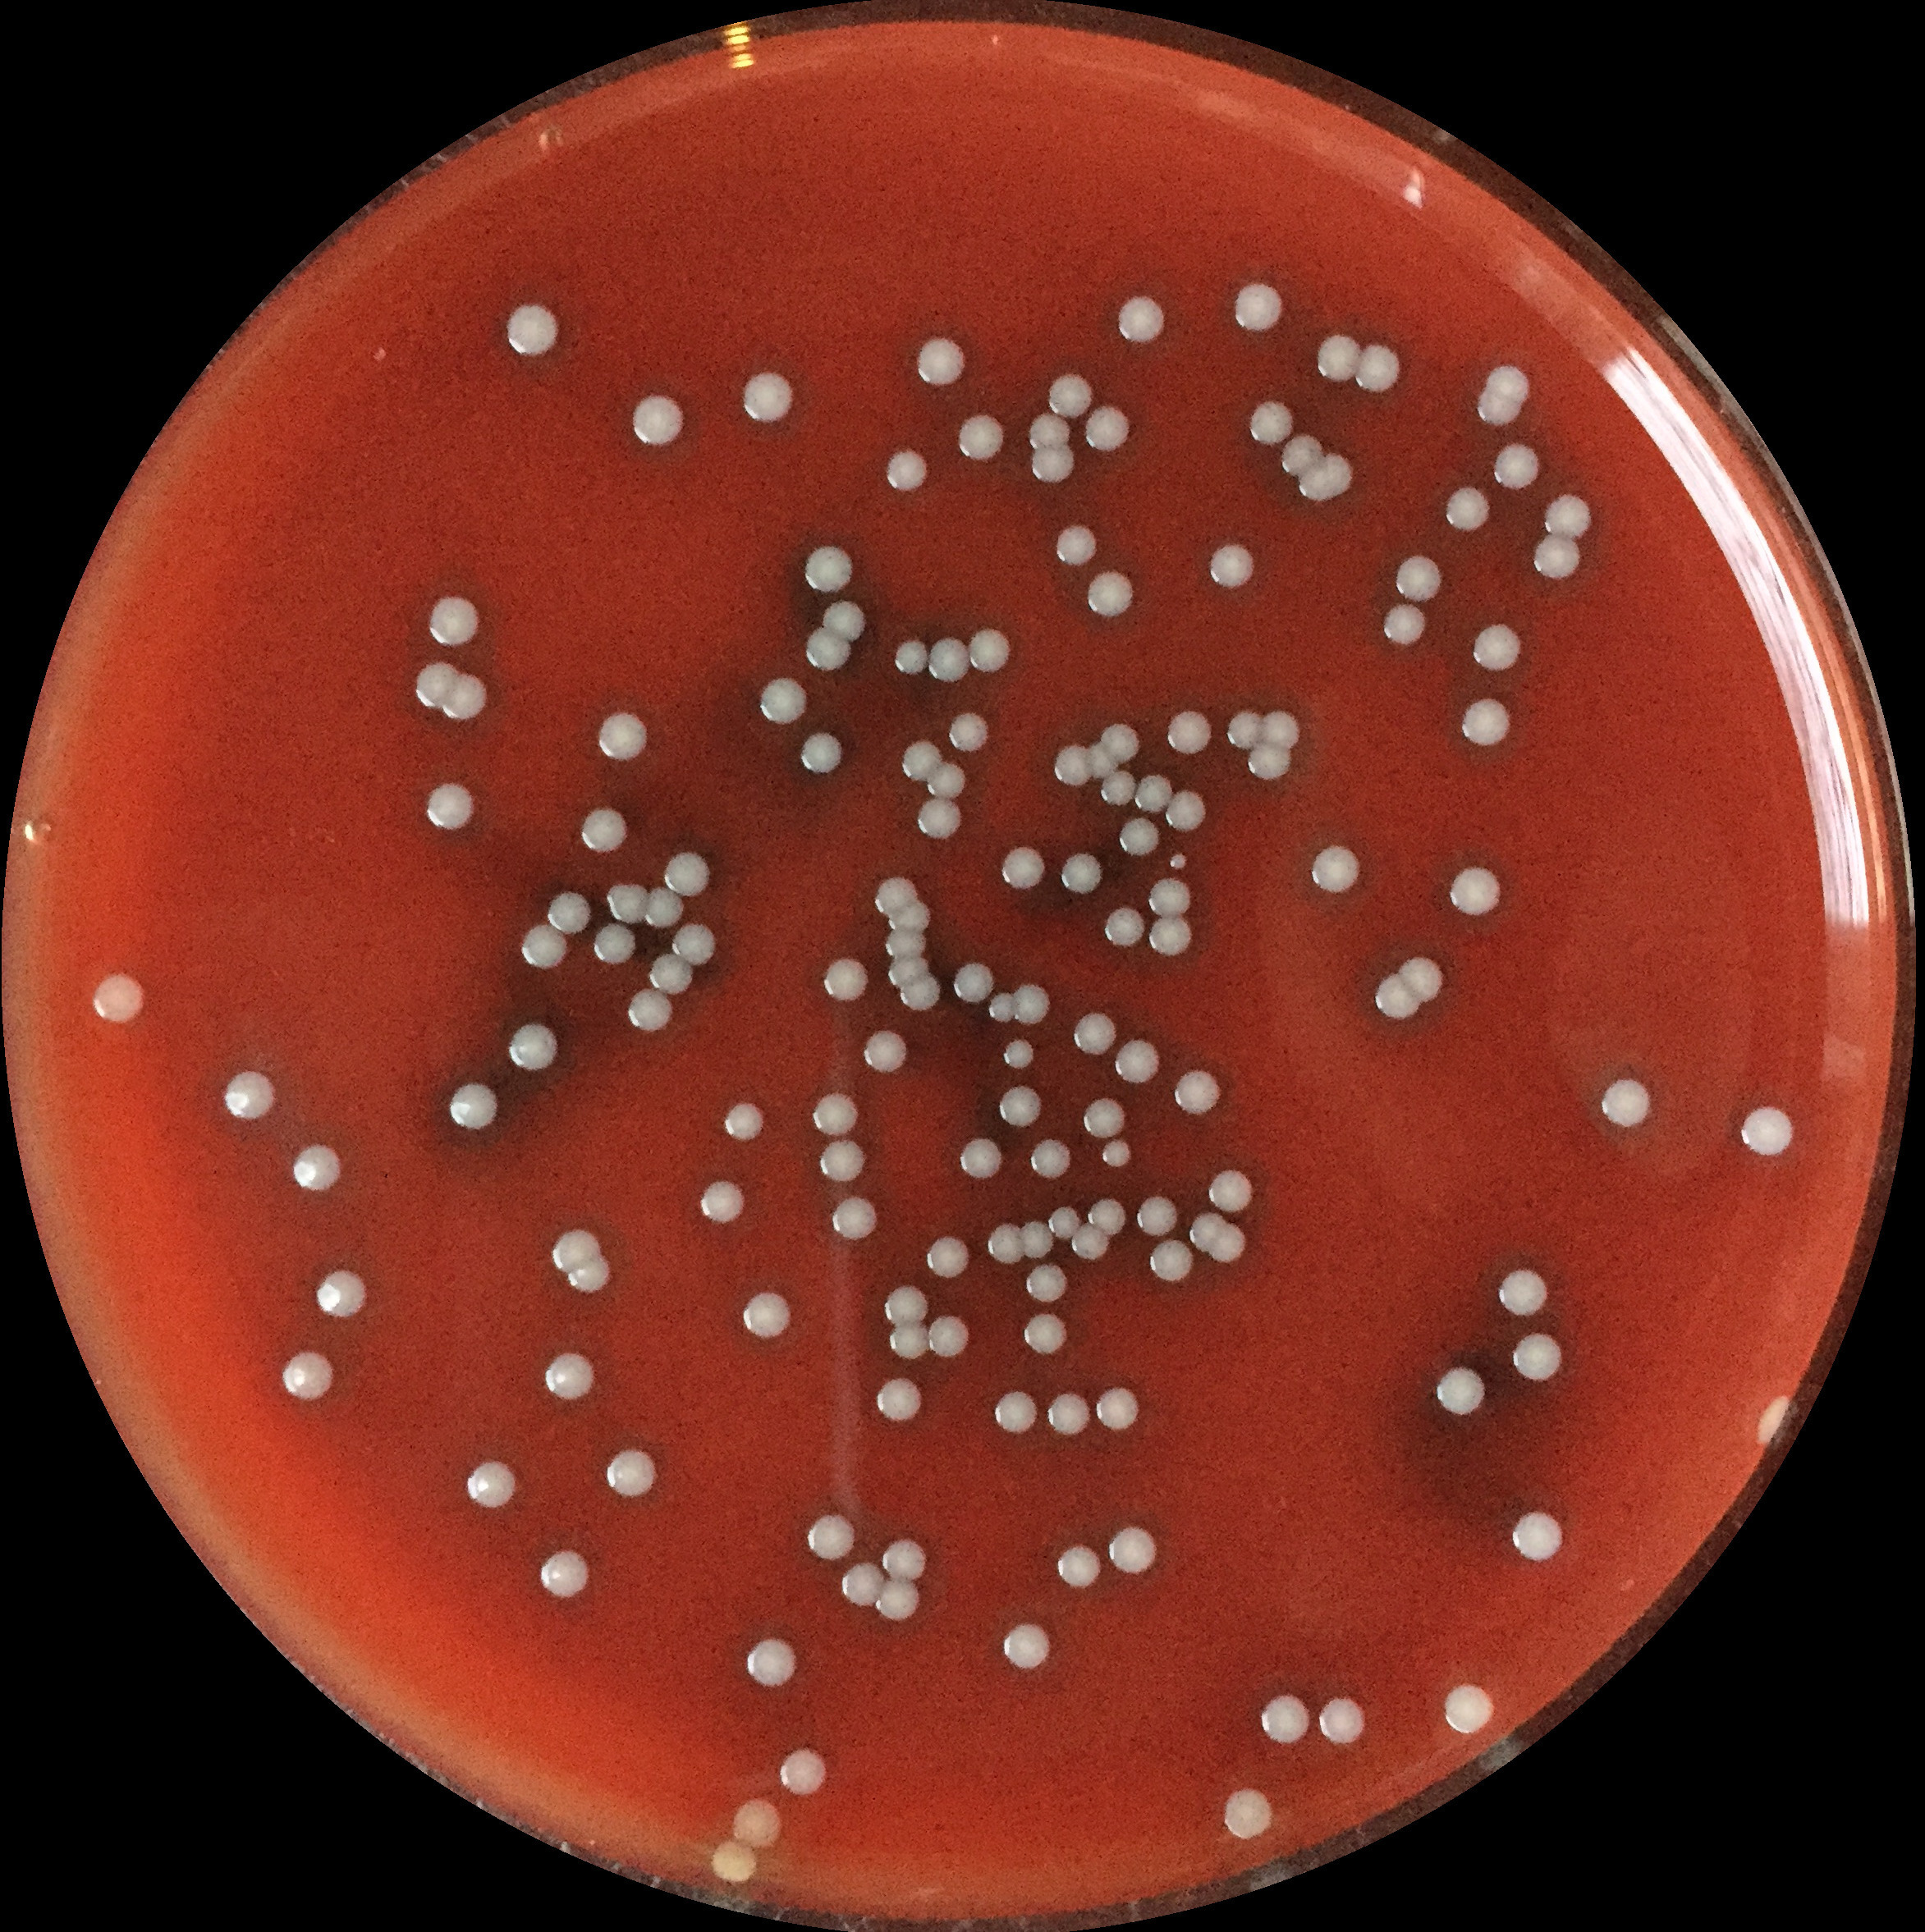sp21: (502, 296, 564, 361), (219, 1065, 282, 1126), (628, 390, 691, 450), (1081, 564, 1141, 626), (800, 539, 860, 601), (1442, 862, 1507, 918), (418, 777, 483, 834), (998, 1618, 1056, 1678), (742, 367, 802, 425), (1440, 1680, 1500, 1738), (1109, 293, 1171, 349), (1431, 1363, 1493, 1419), (594, 707, 656, 763), (804, 1507, 858, 1571), (1458, 693, 1516, 751), (911, 333, 971, 390), (277, 1349, 337, 1405), (1740, 1100, 1796, 1160), (1220, 1782, 1275, 1844), (732, 1793, 786, 1854), (538, 1347, 599, 1401), (462, 1460, 524, 1514), (532, 1544, 594, 1599), (310, 1266, 374, 1319), (1299, 446, 1357, 502), (740, 1289, 799, 1345), (504, 1017, 562, 1074), (86, 971, 146, 1026), (1317, 1690, 1370, 1752), (557, 1252, 622, 1301), (756, 672, 813, 728), (1306, 841, 1366, 894), (421, 596, 483, 647), (1077, 402, 1133, 457), (1391, 546, 1446, 603), (1160, 705, 1216, 760), (996, 839, 1052, 894), (873, 1373, 927, 1430), (1105, 1520, 1160, 1576), (1259, 1690, 1313, 1747), (1511, 1507, 1564, 1565), (1511, 1326, 1562, 1386), (800, 624, 860, 675), (1597, 1074, 1648, 1133), (1232, 280, 1287, 335), (1495, 1264, 1550, 1319), (1472, 619, 1525, 675), (603, 1447, 659, 1500), (578, 804, 631, 860), (825, 1195, 883, 1246), (444, 1081, 502, 1132), (287, 1141, 346, 1192), (435, 675, 494, 726), (954, 411, 1007, 465), (1171, 1063, 1223, 1118), (857, 1026, 911, 1079), (1052, 1541, 1107, 1594), (776, 1745, 830, 1798), (742, 1634, 797, 1687), (414, 658, 467, 712), (961, 626, 1017, 677), (950, 1137, 1012, 1183), (1491, 439, 1542, 494), (1530, 534, 1585, 585), (522, 917, 573, 971), (622, 985, 677, 1037), (1354, 340, 1403, 397), (546, 1225, 606, 1271), (1206, 541, 1259, 592), (1442, 483, 1495, 534), (1054, 850, 1107, 901), (1148, 908, 1199, 961), (924, 635, 975, 687), (1394, 952, 1447, 1003), (878, 1532, 929, 1585), (663, 848, 714, 901), (1375, 970, 1424, 1024), (1112, 1035, 1163, 1086), (924, 1230, 975, 1282), (1313, 331, 1363, 384), (1026, 1135, 1079, 1185), (1377, 596, 1424, 650), (836, 1560, 890, 1608), (873, 1576, 929, 1622), (1045, 370, 1096, 420), (1070, 1008, 1119, 1059), (992, 1082, 1044, 1132), (811, 1089, 860, 1141), (589, 918, 640, 968), (1245, 398, 1297, 446), (1089, 1382, 1142, 1430), (1017, 1310, 1072, 1356), (911, 795, 968, 839), (818, 1133, 867, 1183), (897, 735, 945, 786), (821, 954, 873, 1001), (925, 1312, 973, 1363), (700, 1176, 747, 1227), (670, 918, 721, 966), (820, 598, 873, 643), (1275, 430, 1322, 479), (1544, 488, 1592, 538), (1160, 784, 1208, 834), (1044, 1391, 1093, 1438), (1144, 1234, 1192, 1283), (800, 728, 848, 777), (1026, 442, 1077, 488), (1486, 360, 1532, 411), (1128, 769, 1174, 820), (1114, 813, 1165, 858), (1208, 1165, 1253, 1216), (1243, 739, 1296, 783), (1081, 1095, 1128, 1142), (883, 1282, 931, 1329), (880, 450, 929, 495), (1095, 717, 1144, 763), (1010, 982, 1059, 1028), (1024, 1260, 1070, 1310), (1049, 740, 1095, 788), (945, 710, 992, 756), (982, 1222, 1028, 1269), (647, 950, 695, 996), (1472, 388, 1523, 430), (1142, 876, 1193, 918), (1051, 525, 1104, 566), (1102, 904, 1148, 950), (545, 888, 591, 934), (1220, 709, 1267, 753), (1024, 411, 1075, 451), (1259, 705, 1303, 751), (873, 874, 918, 918), (991, 1389, 1037, 1433), (721, 1100, 767, 1144), (642, 885, 686, 931), (599, 881, 649, 922), (952, 962, 996, 1007), (712, 1837, 756, 1881), (1067, 1218, 1109, 1264), (896, 975, 943, 1015), (1135, 1193, 1176, 1241), (1758, 1391, 1791, 1447), (1098, 765, 1141, 809), (888, 1320, 933, 1363), (1015, 1218, 1058, 1262), (1208, 1218, 1248, 1264), (1185, 1207, 1223, 1255), (1081, 739, 1123, 781), (888, 638, 929, 682), (883, 950, 931, 987), (925, 758, 968, 799), (880, 931, 933, 962), (883, 904, 933, 938), (1082, 1197, 1125, 1236), (998, 1037, 1040, 1072), (1042, 1204, 1081, 1241), (1100, 1133, 1132, 1174), (984, 991, 1017, 1026), (1167, 850, 1193, 876)
